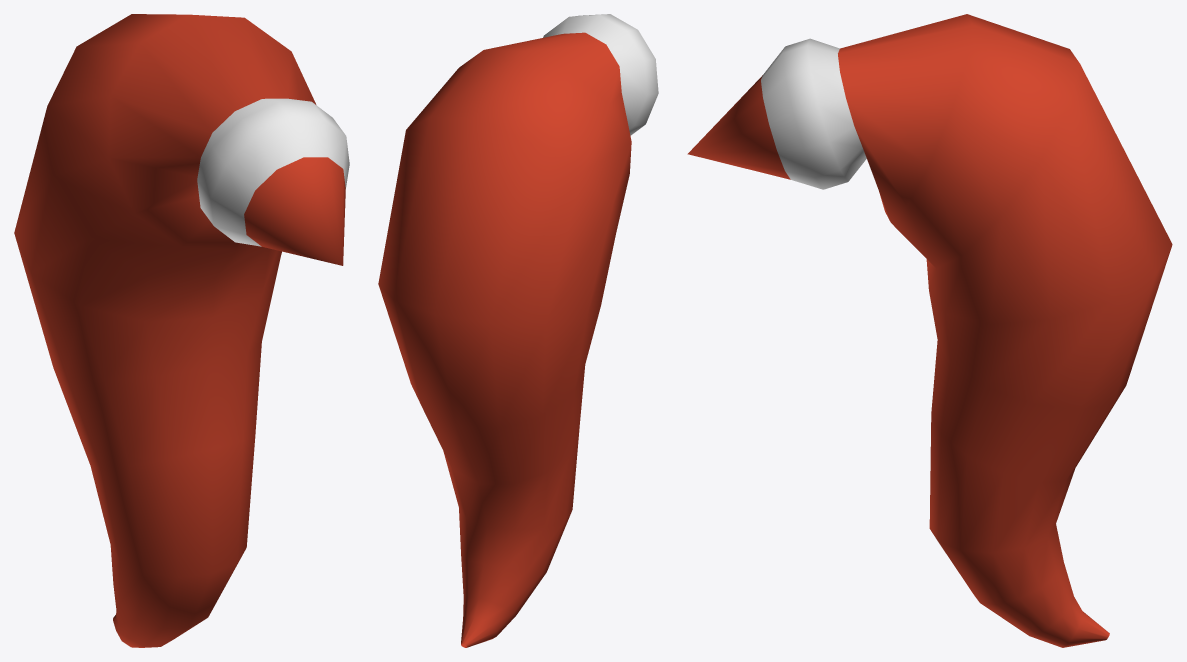
The model's file is hairTail.fbx.
3 views of the same model, side by side, from view 1: azimuth 30°, elevation 25°; view 2: azimuth 150°, elevation 25°; view 3: azimuth 270°, elevation 25° (orthographic). The views are drawn at different scales.
Visible parts, largest first — view 1: hairTail; view 2: hairTail; view 3: hairTail.
Part boxes in pixels (x1,y1,x2,y2): hairTail: (14, 14, 349, 647); hairTail: (378, 14, 658, 647); hairTail: (687, 14, 1172, 647).
Bounding box in the file's own units: 58.61 × 154 × 109.
